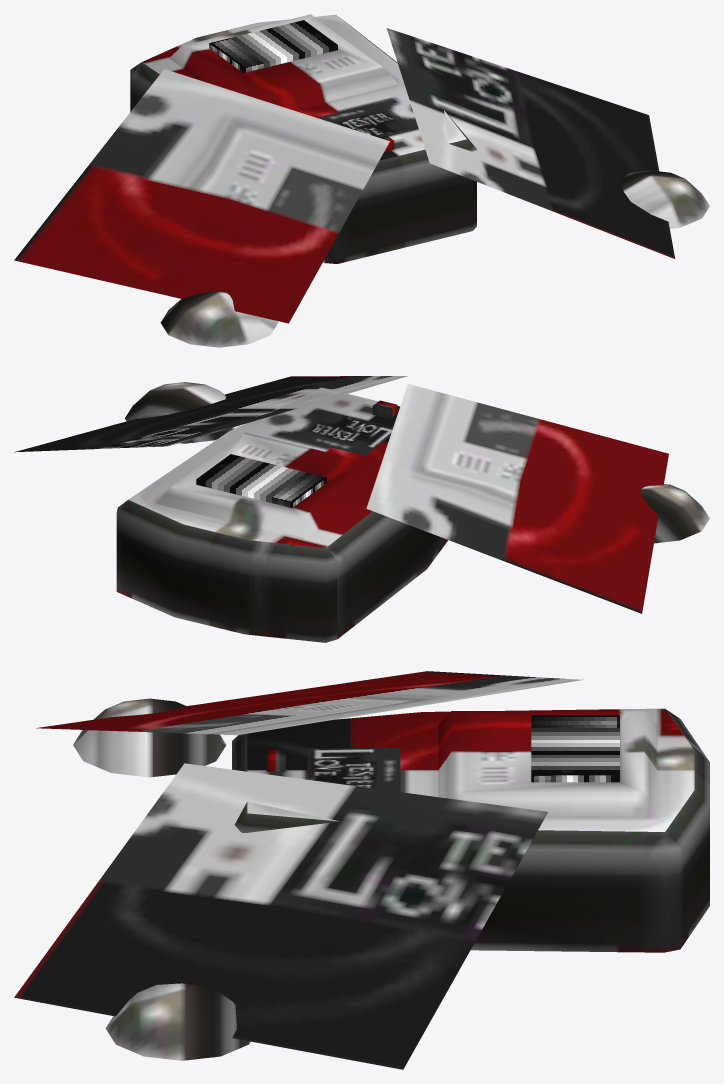
The model's file is int_oth_lovetester.dae.
3 views of the same model, one above another, from view 1: azimuth 30°, elevation 25°; view 2: azimuth 150°, elevation 25°; view 3: azimuth 270°, elevation 25° (orthographic). The views are drawn at different scales.
Visible parts, largest first — view 1: int_oth_lovetester; view 2: int_oth_lovetester; view 3: int_oth_lovetester.
Boxes of the visible parts, x1,y1,x2,y2 form: int_oth_lovetester: [14, 14, 709, 347]; int_oth_lovetester: [14, 376, 709, 642]; int_oth_lovetester: [14, 671, 709, 1069].
Size of the model in its own units: 28.78 by 4.74 by 21.28.
Materials: 2 (2 with a texture image).
